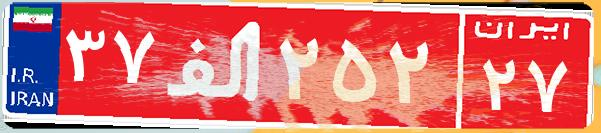2: (385, 28, 445, 110), (273, 28, 330, 110), (475, 38, 525, 113)
3: (57, 26, 110, 107)
5: (330, 28, 385, 110)
7: (110, 28, 158, 105), (525, 38, 570, 115)
الف: (158, 15, 273, 115)
